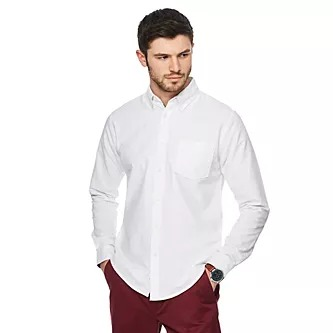S_shirt: (90, 77, 270, 301)
